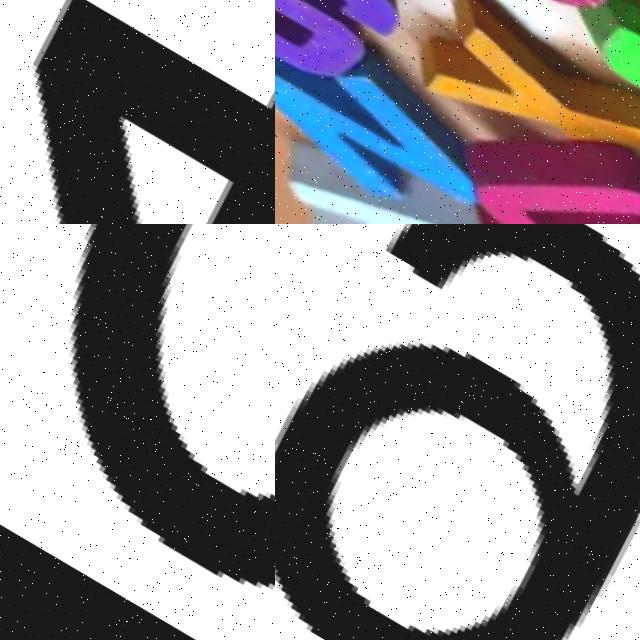9: (275, 224, 640, 640)
H: (275, 88, 539, 224)
O: (62, 224, 275, 582), (419, 68, 640, 224)
U: (275, 0, 640, 61)
